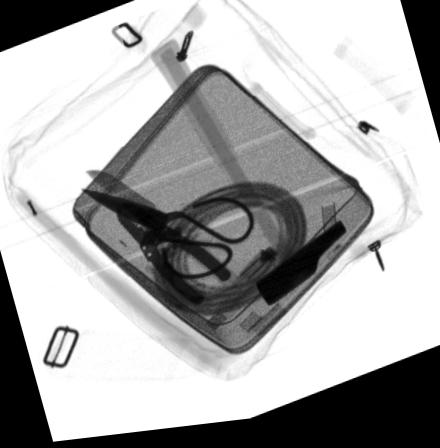Hammer: (147, 40, 347, 313)
Knife: (84, 171, 243, 294)
Pliers: (114, 203, 232, 310)
Scissors: (78, 190, 255, 284)
